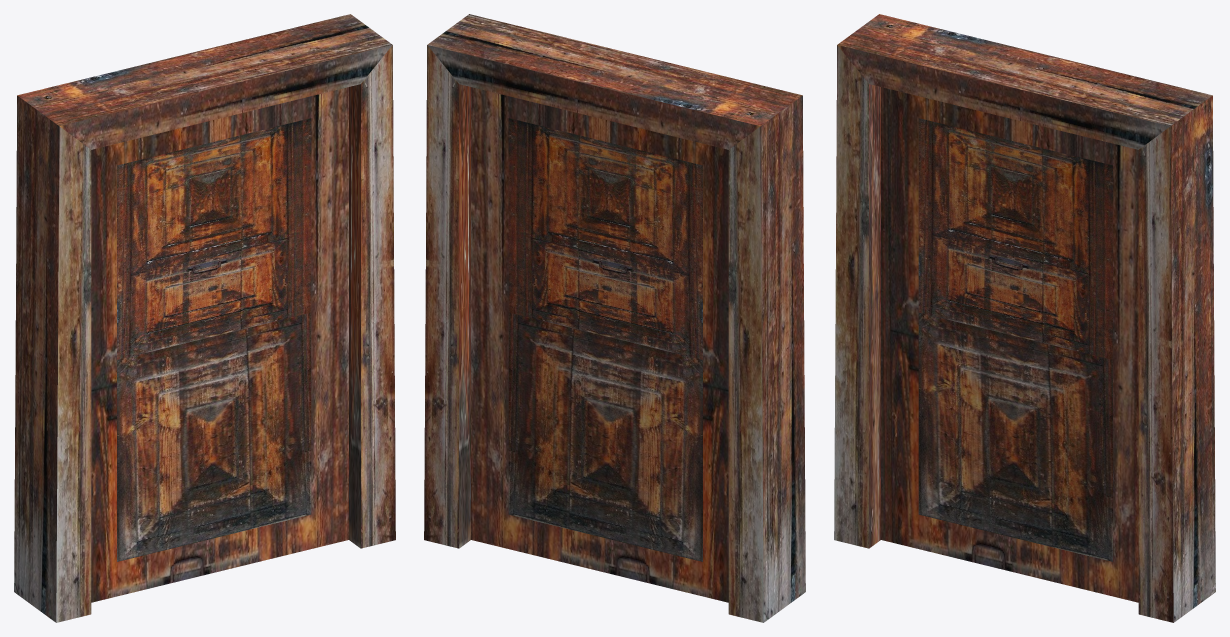
File: Door_1.glb
3 renders of one model, left to right at view 1: azimuth 30°, elevation 25°; view 2: azimuth 150°, elevation 25°; view 3: azimuth 330°, elevation 25°, orthographic.
Parts seen in each view (by area): view 1: Cube.004; view 2: Cube.004; view 3: Cube.004.
Part boxes in pixels (x1,y1,x2,y2): Cube.004: [14, 14, 395, 622]; Cube.004: [424, 14, 805, 622]; Cube.004: [834, 14, 1215, 622].
Bounding box in the file's own units: 2.14 × 2.99 × 0.461.
Materials: 1 (1 with a texture image).
